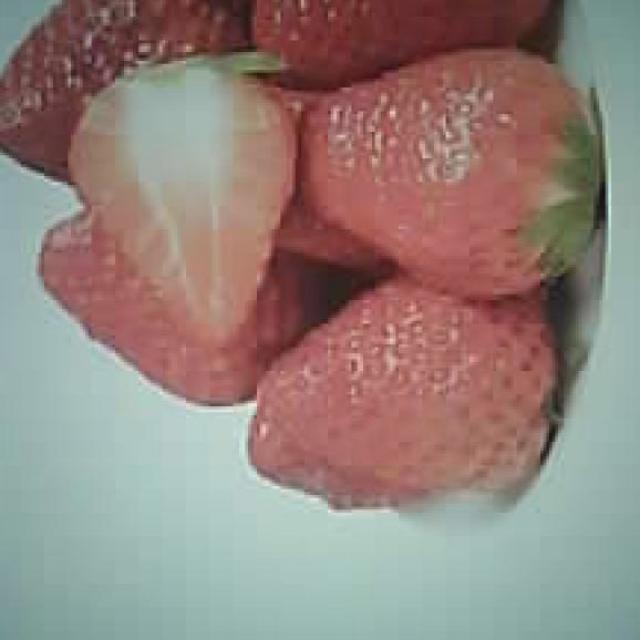Healthy Fruit: (298, 50, 598, 298), (259, 279, 547, 490)
